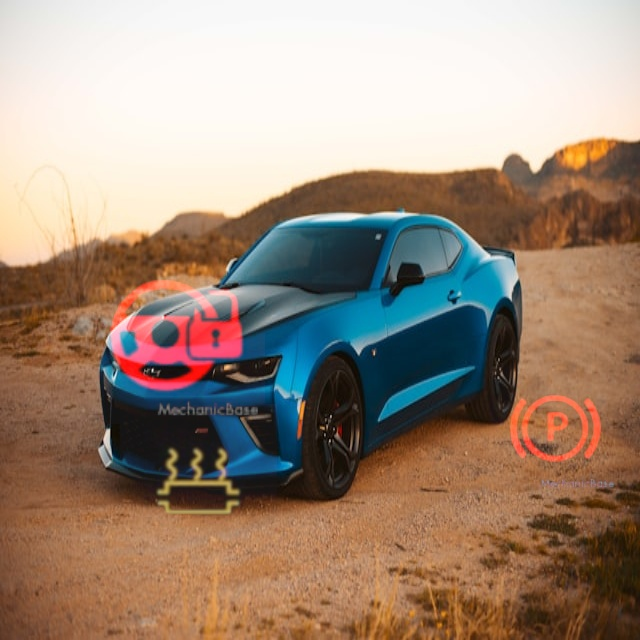symbol: (89, 248, 265, 424), (120, 404, 277, 561), (490, 365, 619, 494), (110, 30, 236, 156)
